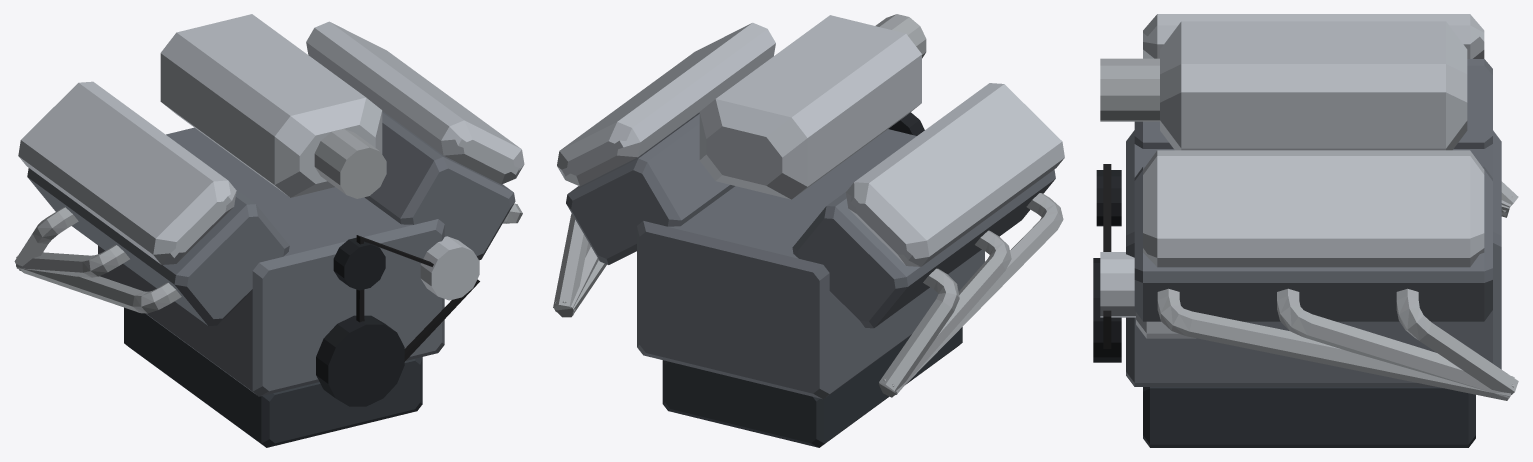
The model's file is crate_kmw_v6_35.glb.
The picture shows the model from 3 angles, left to right: view 1: azimuth 30°, elevation 25°; view 2: azimuth 150°, elevation 25°; view 3: azimuth 270°, elevation 25°; orthographic projection. The views are drawn at different scales.
Visible parts, largest first — view 1: model; view 2: model; view 3: model.
Boxes of the visible parts, x1,y1,x2,y2 form: model: (14, 14, 524, 447); model: (553, 14, 1064, 447); model: (1093, 14, 1518, 447).
Bounding box in the file's own units: 0.724 × 0.5628 × 0.5982.
Materials: 3 (1 with a texture image).
